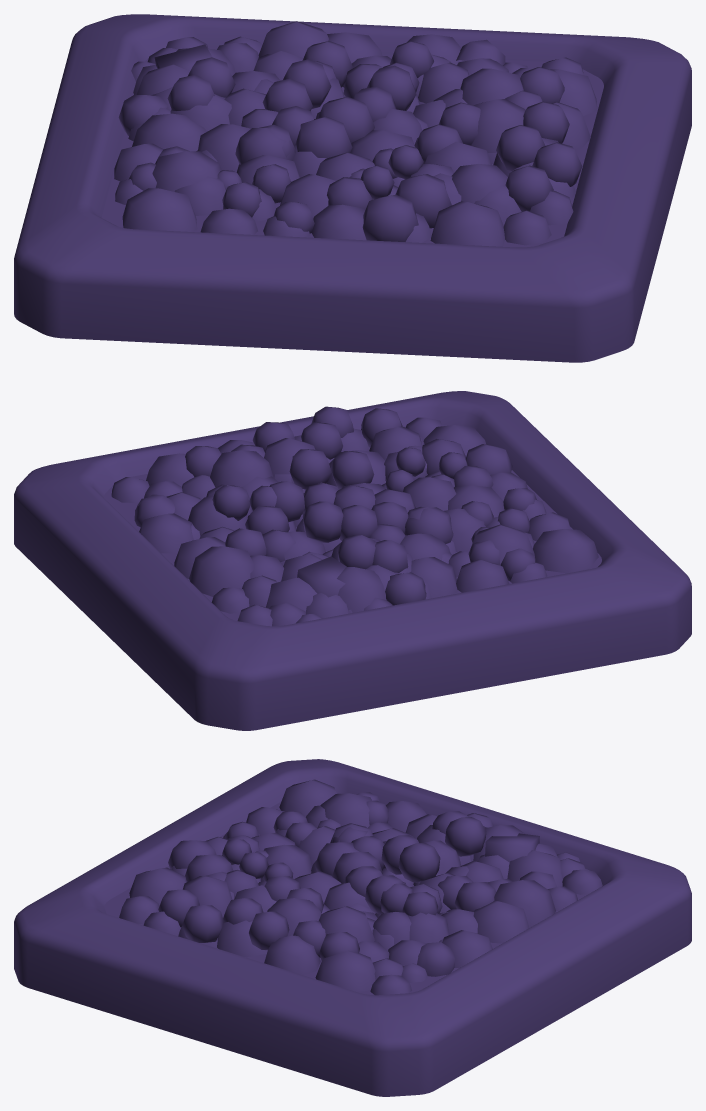
Rendered from SM_ballPit.fbx.
3 views of the same model, one above another, from view 1: azimuth 30°, elevation 25°; view 2: azimuth 150°, elevation 25°; view 3: azimuth 270°, elevation 25° (orthographic). The views are drawn at different scales.
Visible parts, largest first — view 1: SM_ballPit.001; view 2: SM_ballPit.001; view 3: SM_ballPit.001.
Boxes of the visible parts, <box> form: SM_ballPit.001: <box>14,14,691,362</box>; SM_ballPit.001: <box>14,391,691,730</box>; SM_ballPit.001: <box>14,759,691,1096</box>.
Size of the model in its own units: 4.78 by 0.8314 by 4.78.
